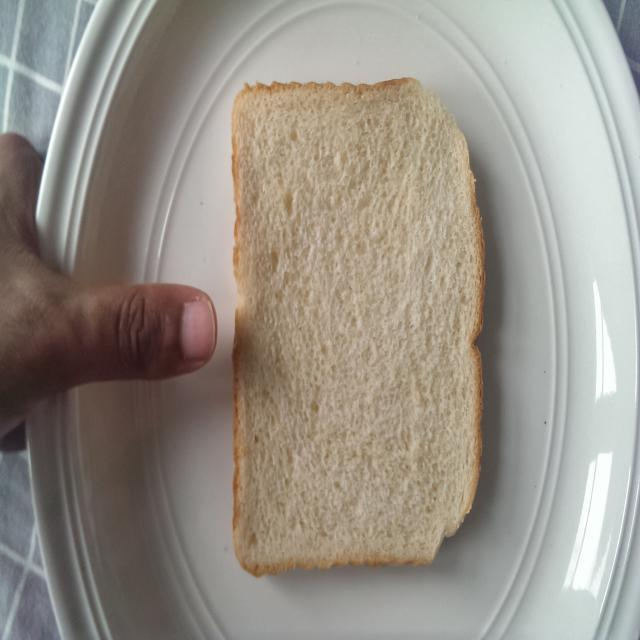Bread: (222, 68, 490, 582)
Finger: (109, 273, 222, 389)
